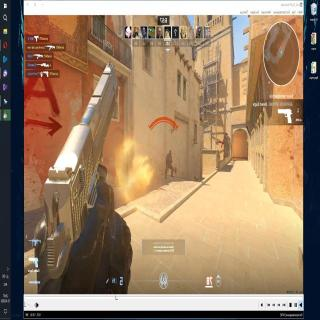CT-Body: (164, 152, 174, 178)
CT-Head: (168, 151, 172, 157)
